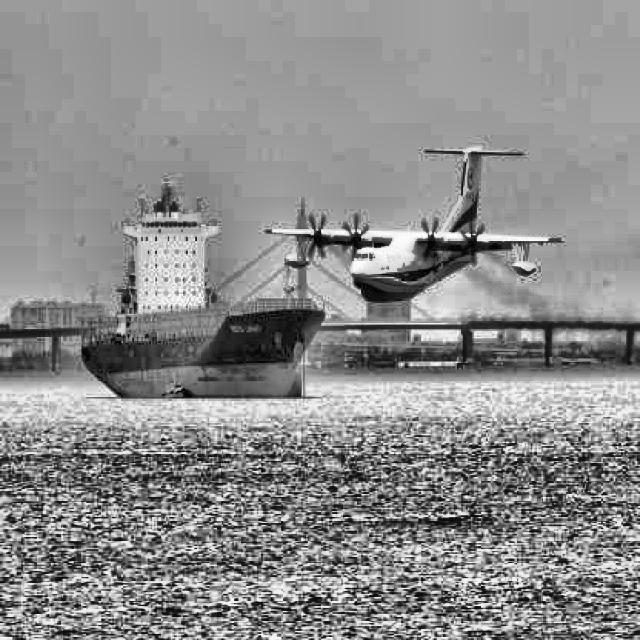AG600: (265, 146, 563, 302)
